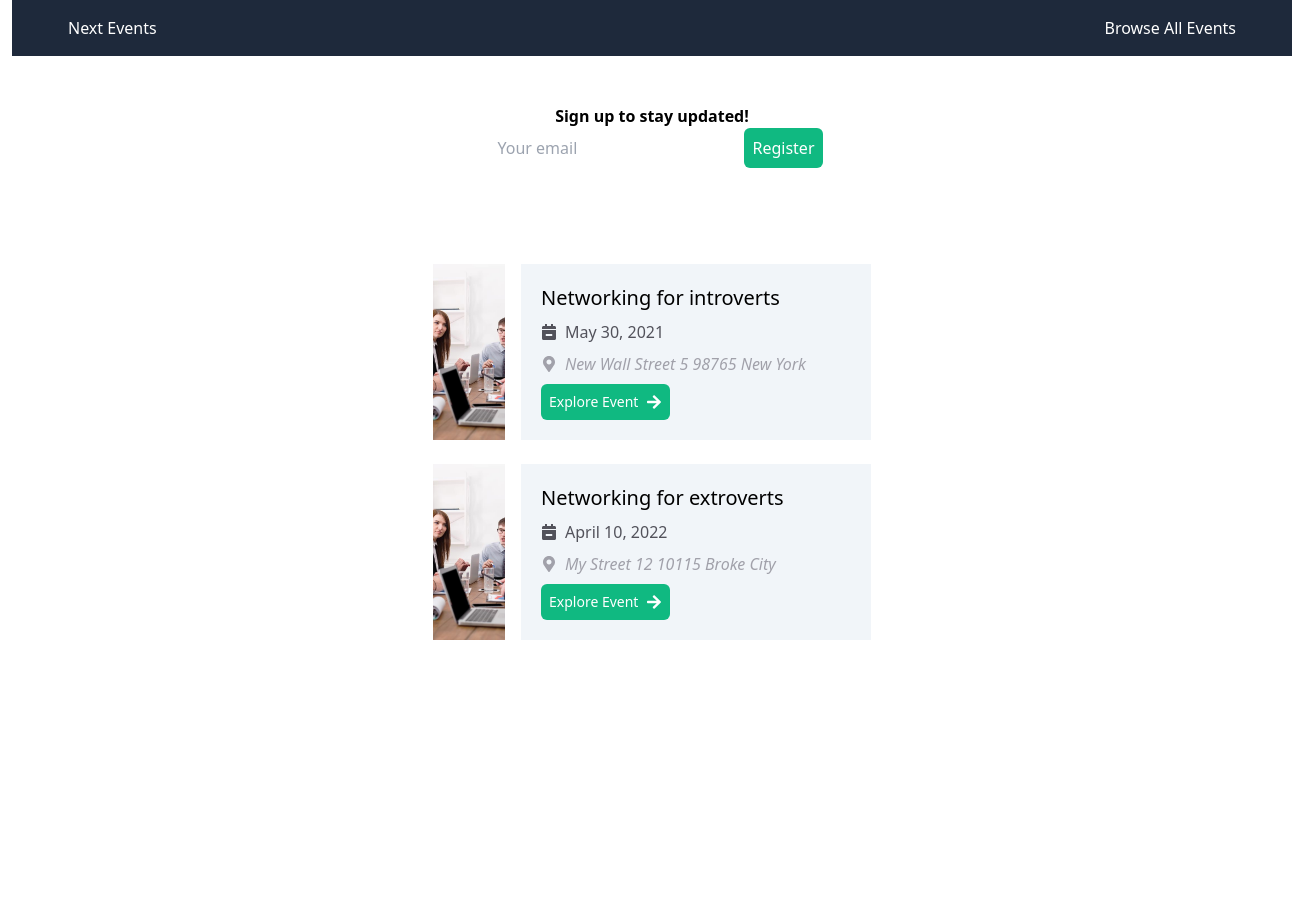
Test: events app › should show an error message for the date that does not exist
Click the link "Browse All Events" at (1171, 28), box [1105,17,1237,39]
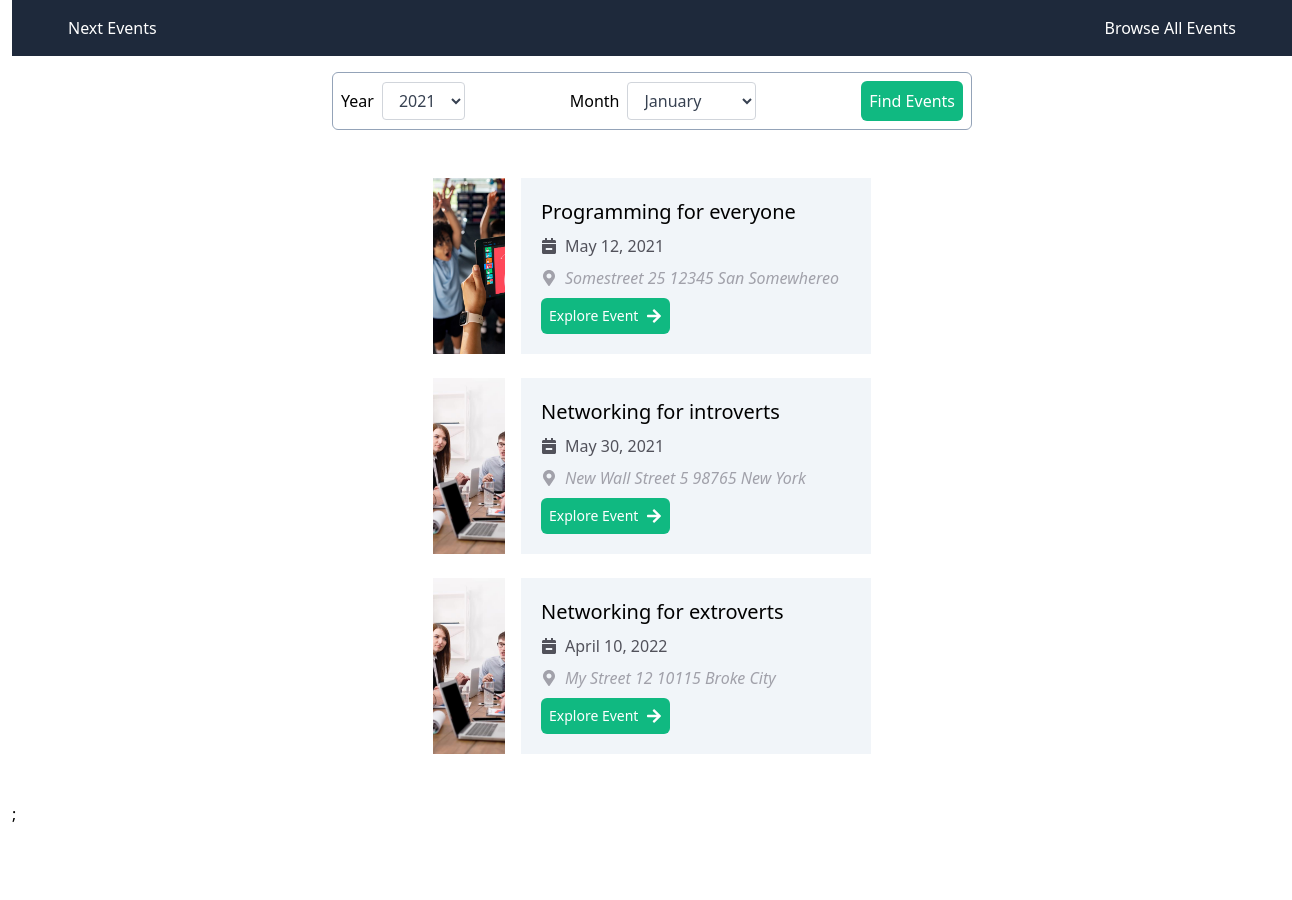
Select "2022" in the dropdown labelled "Year" at (424, 101), box [382,82,465,120]
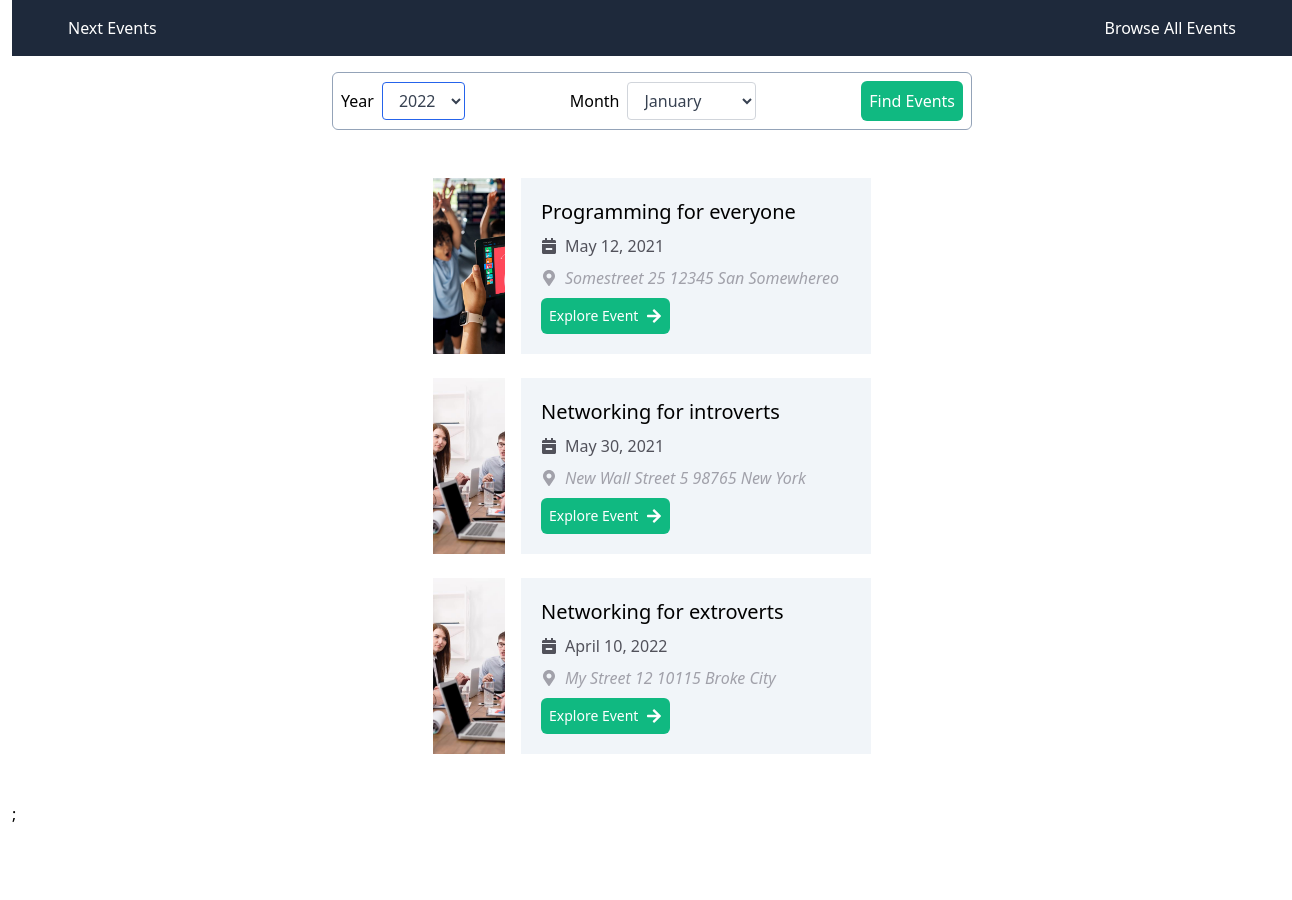
Select "December" in the dropdown labelled "Month" at (693, 101), box [628,82,757,120]
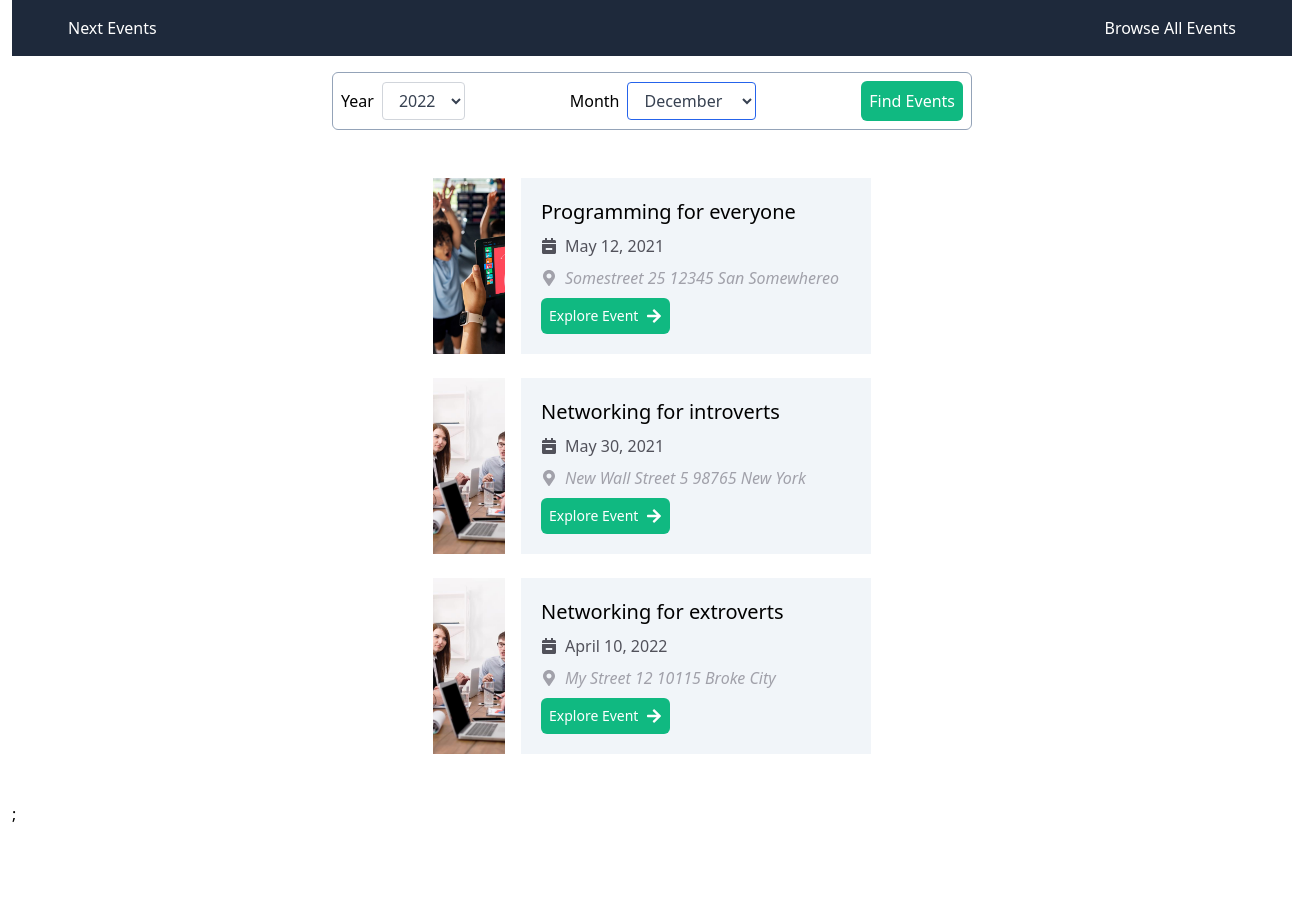
Click the button "Find Events" at (912, 101), box [861,81,963,121]
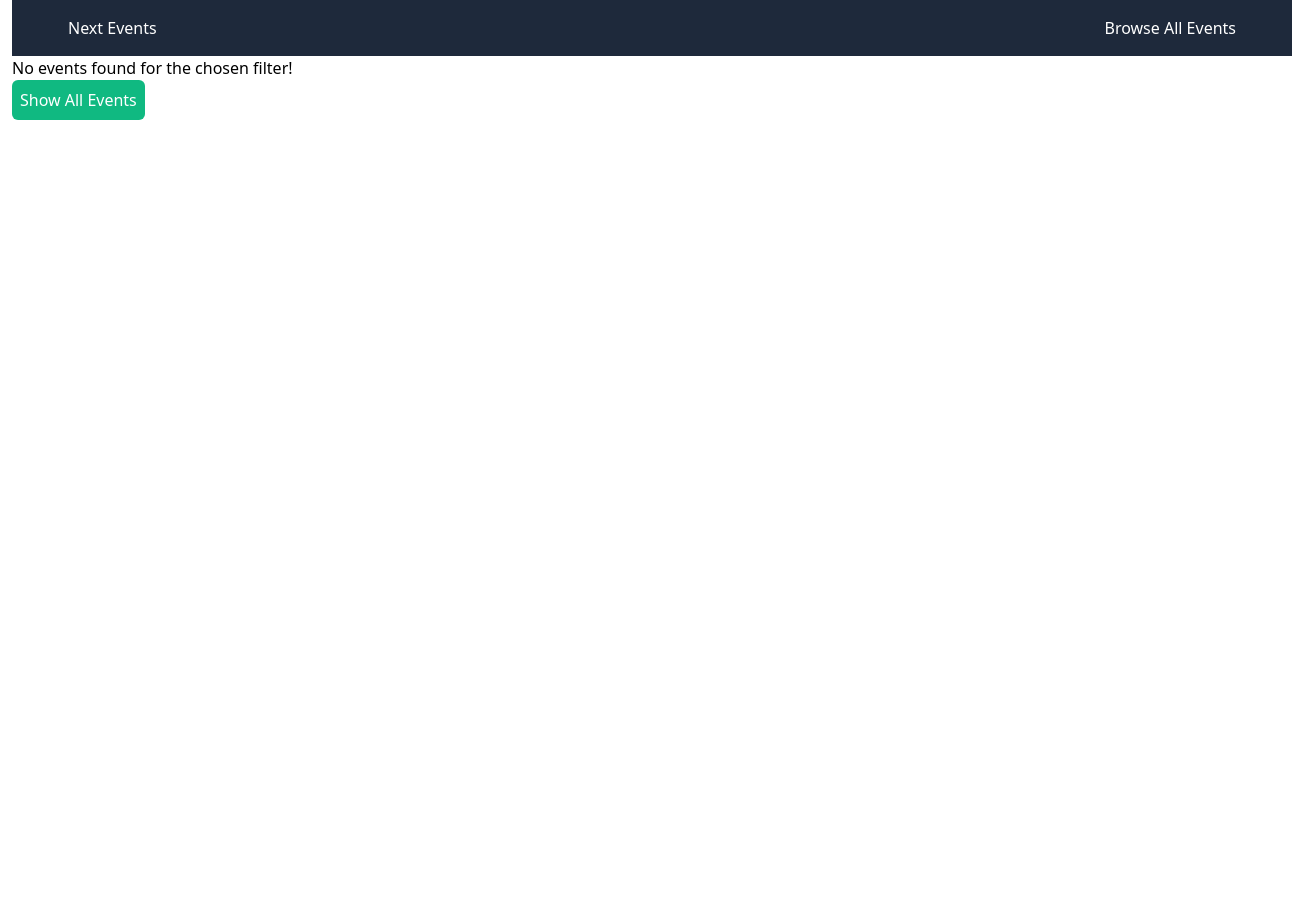
Expected: the text "No events found for the chosen filter!" is shown, [12,57,293,79]
